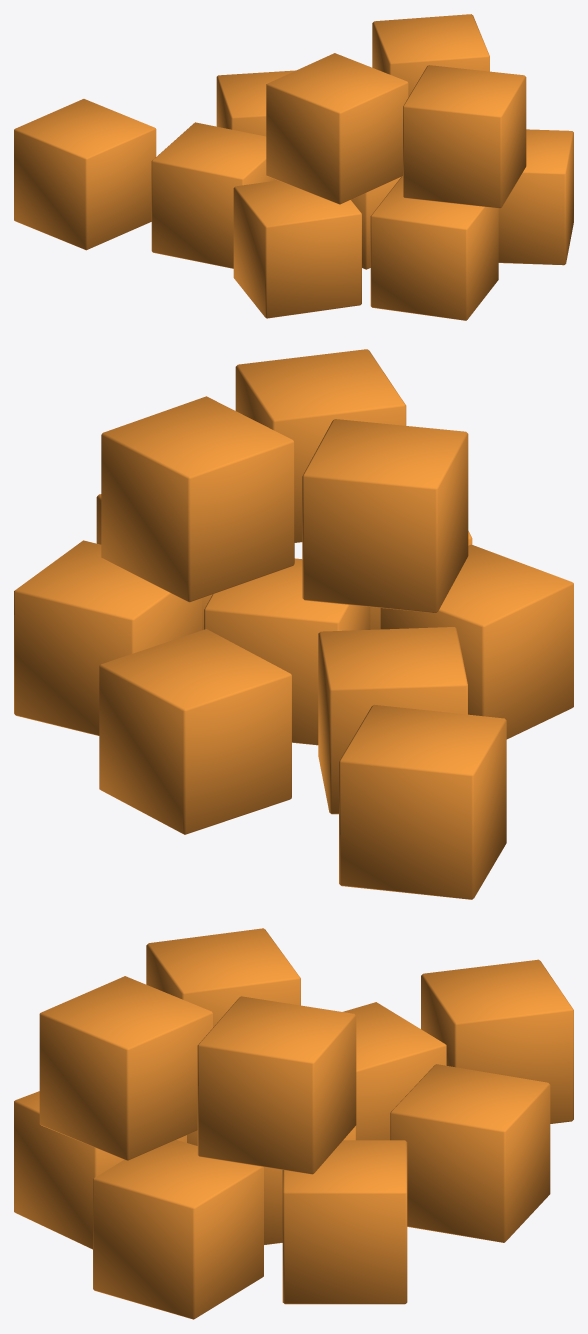
File: CheeseCubes.fbx
3 views of the same model, one above another, from view 1: azimuth 30°, elevation 25°; view 2: azimuth 150°, elevation 25°; view 3: azimuth 270°, elevation 25° (orthographic). The views are drawn at different scales.
Visible parts, largest first — view 1: cheeseCubeSmall; view 2: cheeseCubeSmall; view 3: cheeseCubeSmall.
Part boxes in pixels (bbox=[...]): cheeseCubeSmall: bbox=[14, 14, 573, 320]; cheeseCubeSmall: bbox=[14, 349, 573, 899]; cheeseCubeSmall: bbox=[14, 928, 573, 1319].
Bounding box in the file's own units: 40.07 × 17.07 × 38.13.
